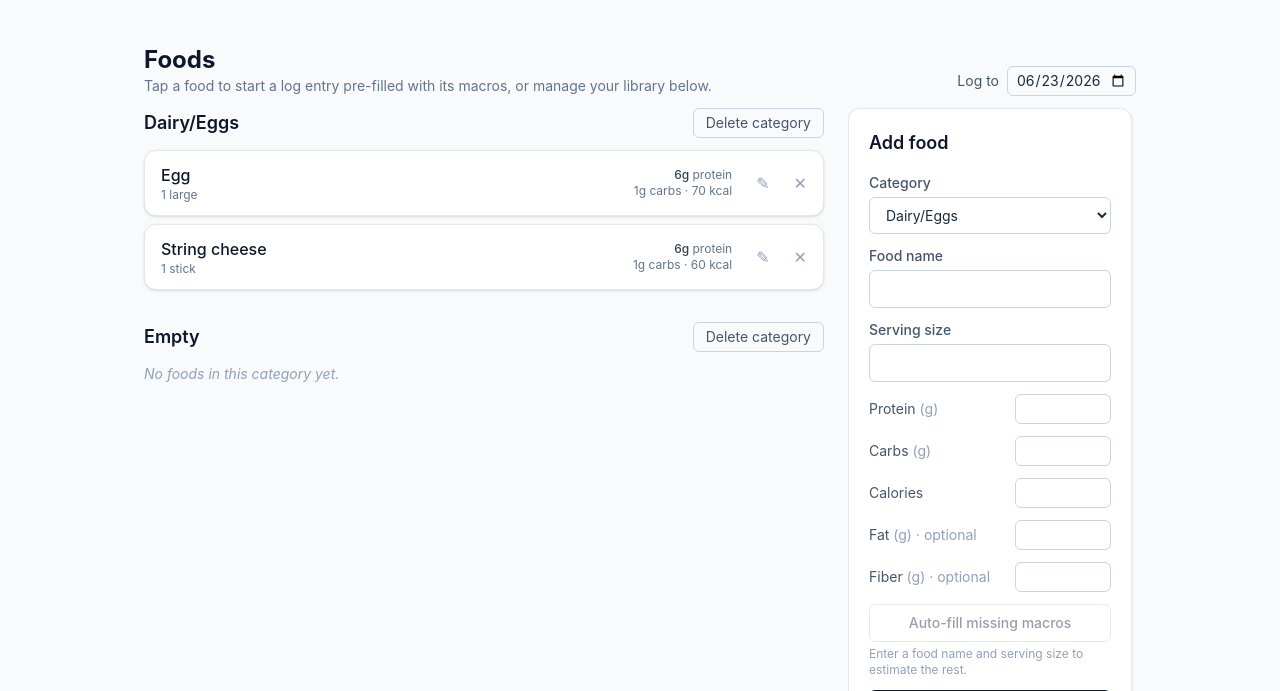
FoodsPage › auto-fill missing macros › fills only the empty macro fields, leaving entered values untouched
In the field named "New food name": coordinates (990, 289) [869,270,1111,308], type "Banana"
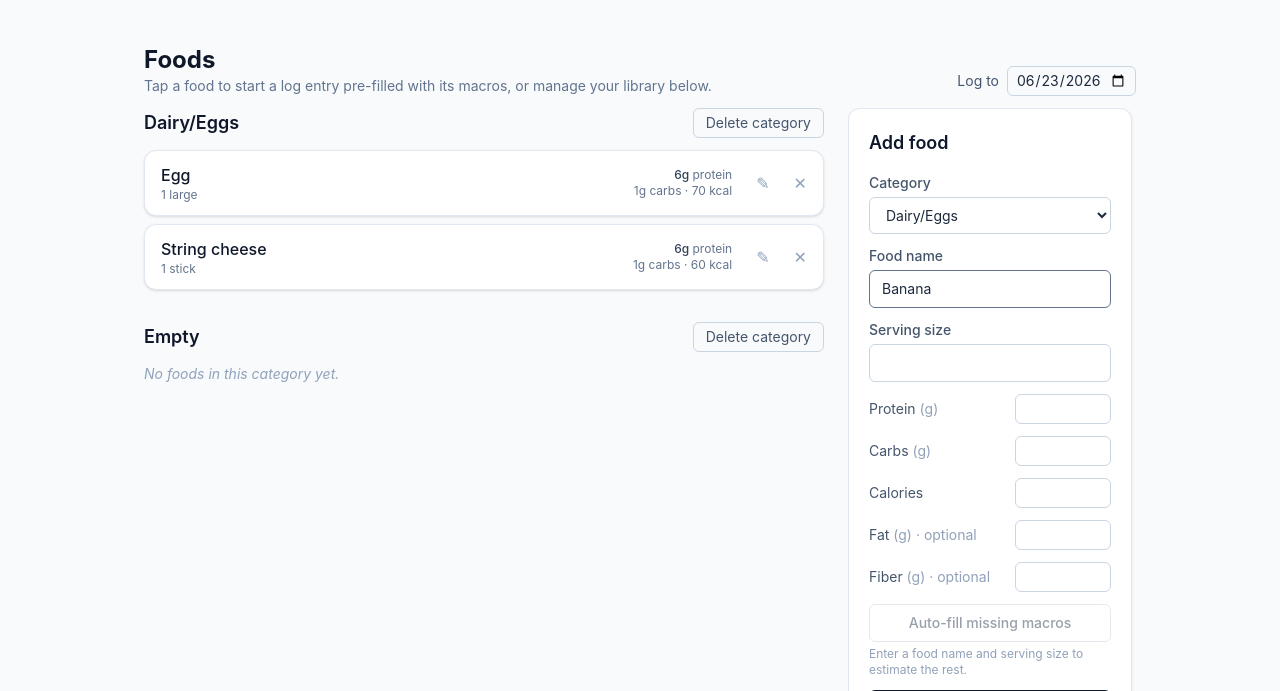
In the field named "New food serving size": coordinates (990, 363) [869,344,1111,382], type "1 medium"
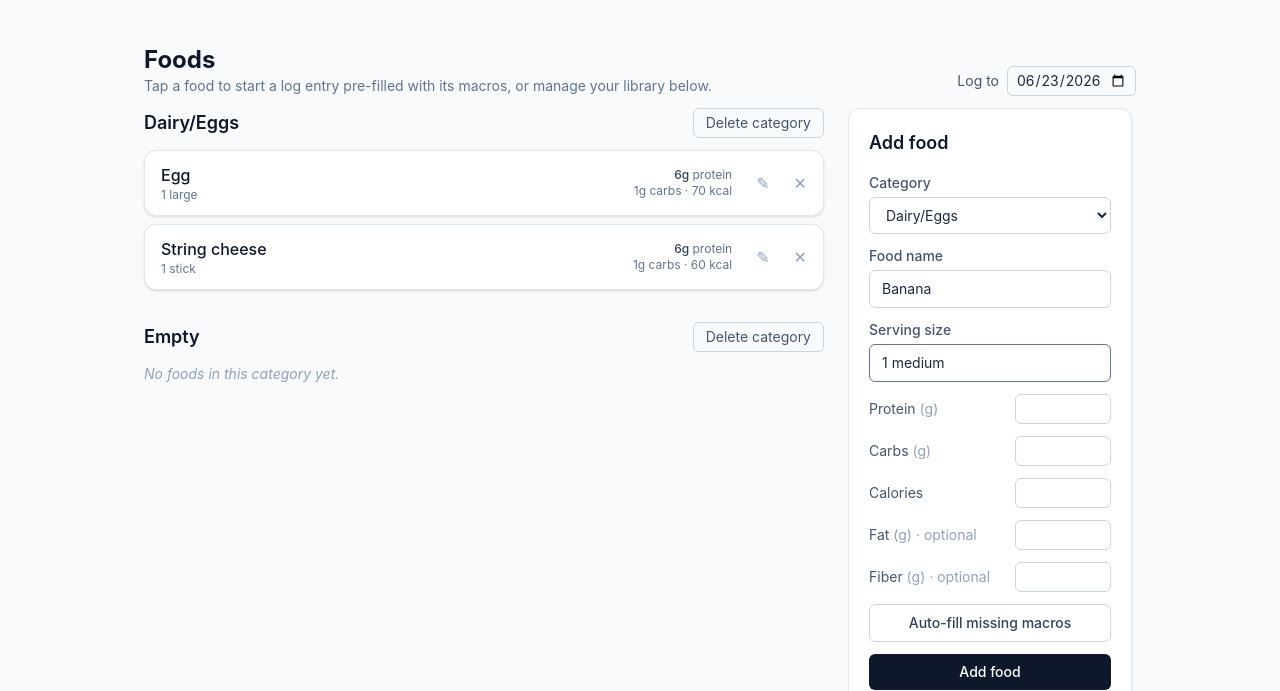
In the number field named "New food protein": coordinates (1063, 409) [1015,394,1111,424], type "2"
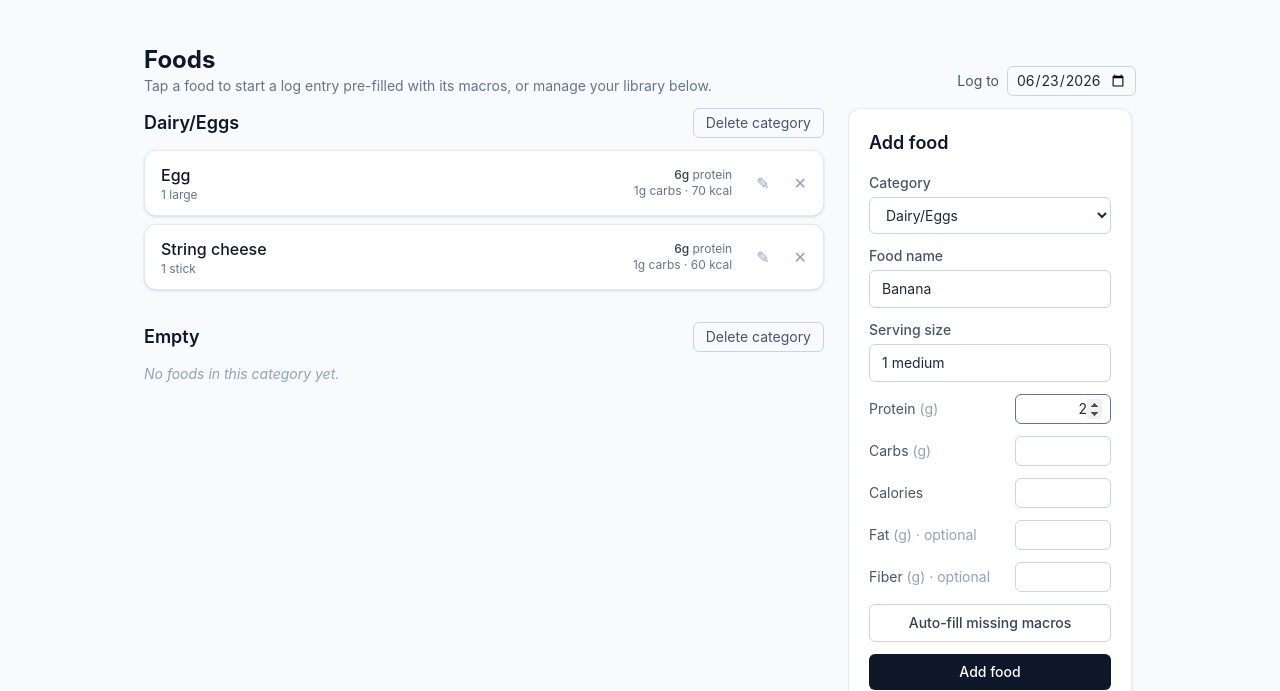
Click the button "Auto-fill missing macros": coordinates (990, 623) [869,604,1111,642]
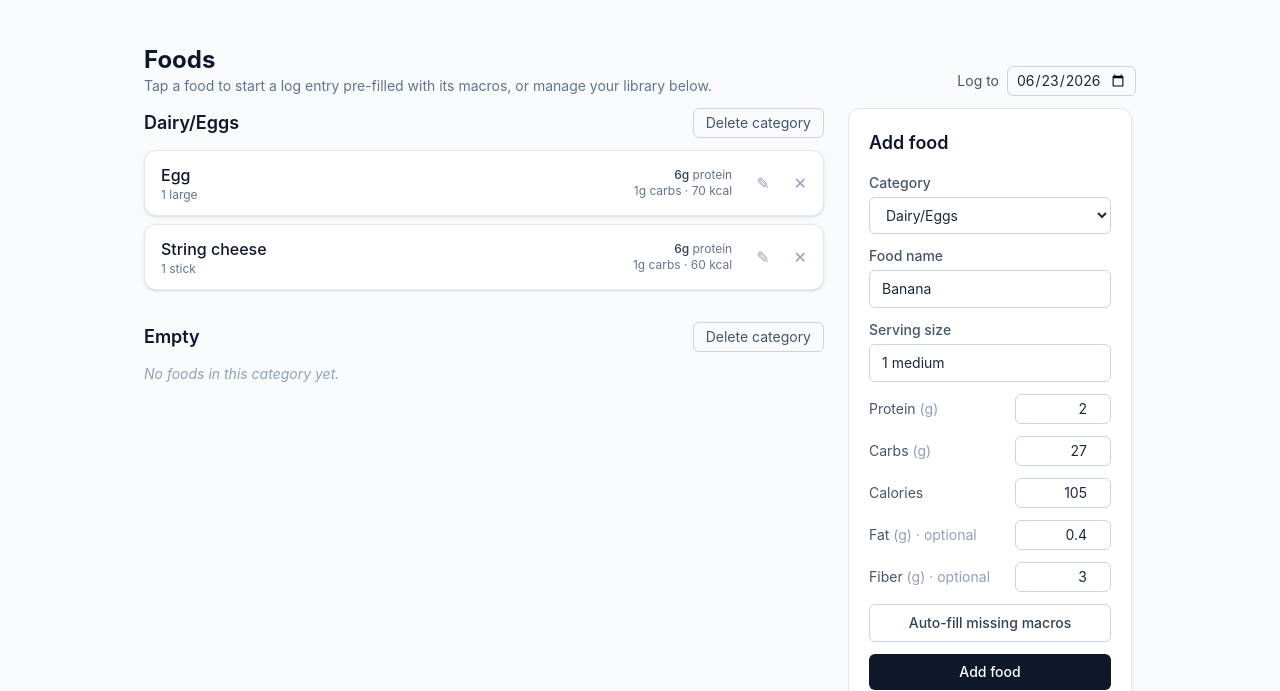
Now the number field named "New food carbs" holds "27", box [1015,436,1111,466]
Now the number field named "New food calories" holds "105", box [1015,478,1111,508]
Now the number field named "New food fat" holds "0.4", box [1015,520,1111,550]
